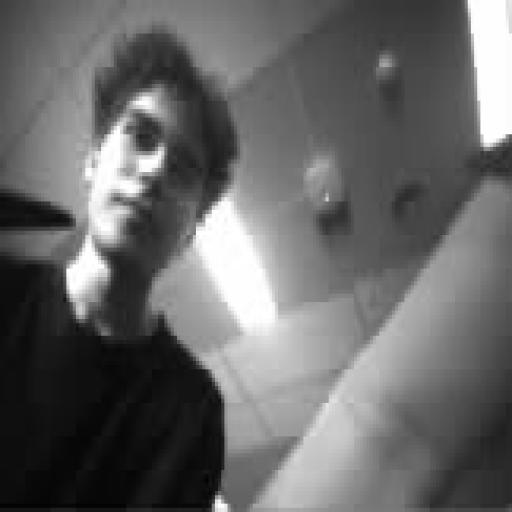human: (0, 26, 237, 507), (243, 130, 509, 512)
